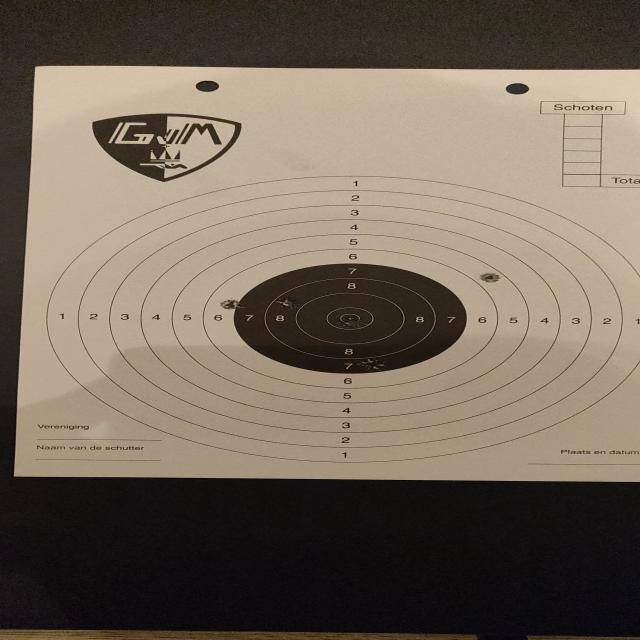10: (337, 318, 367, 328)
5: (478, 273, 502, 283)
7: (356, 358, 388, 371), (218, 300, 246, 310)
8: (274, 297, 300, 308)
Target: (44, 176, 640, 462)
black_contour: (232, 264, 468, 374)
